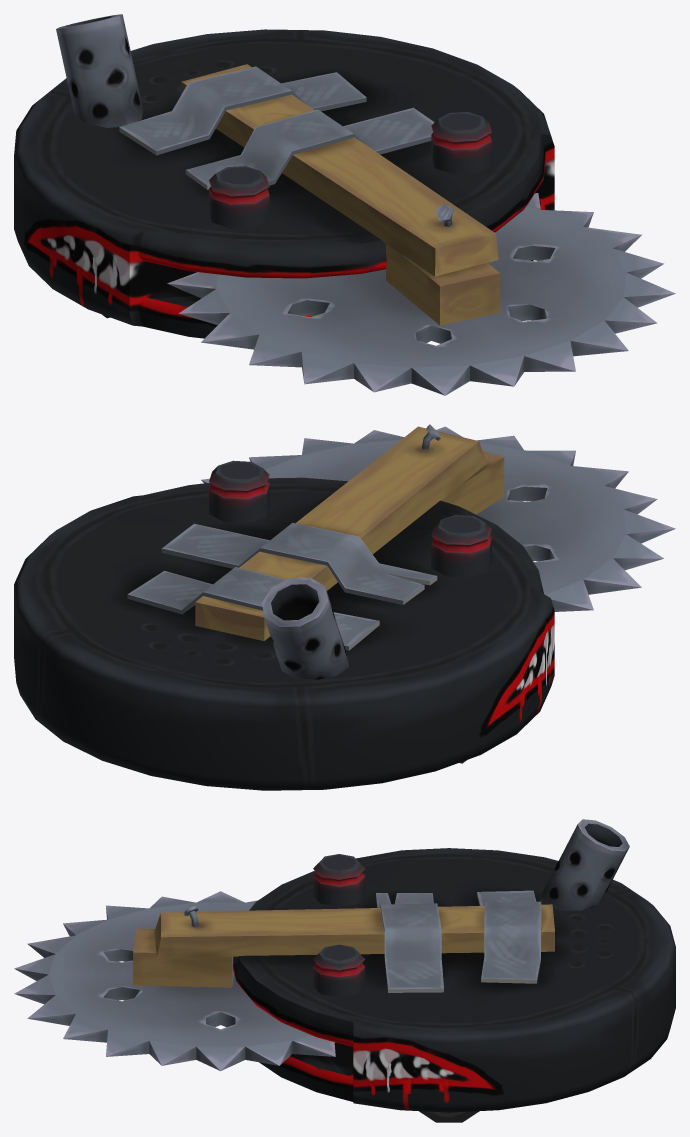
File: Level_ZombieMower.fbx
3 renders of one model, top to bottom at view 1: azimuth 30°, elevation 25°; view 2: azimuth 150°, elevation 25°; view 3: azimuth 270°, elevation 25°, orthographic. The views are drawn at different scales.
Visible parts, largest first — view 1: Base, Saw; view 2: Base, Saw; view 3: Base, Saw, Wheels.
Boxes of the visible parts, <box> form: Base: <box>14,14,554,338</box>; Saw: <box>167,193,675,395</box>; Base: <box>14,424,554,790</box>; Saw: <box>201,426,675,611</box>; Base: <box>133,819,675,1112</box>; Saw: <box>14,891,335,1070</box>; Wheels: <box>419,1111,479,1122</box>.
Size of the model in its own units: 0.917 by 1.34 by 0.4035.
